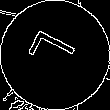L_SE: (26, 30, 84, 80)
